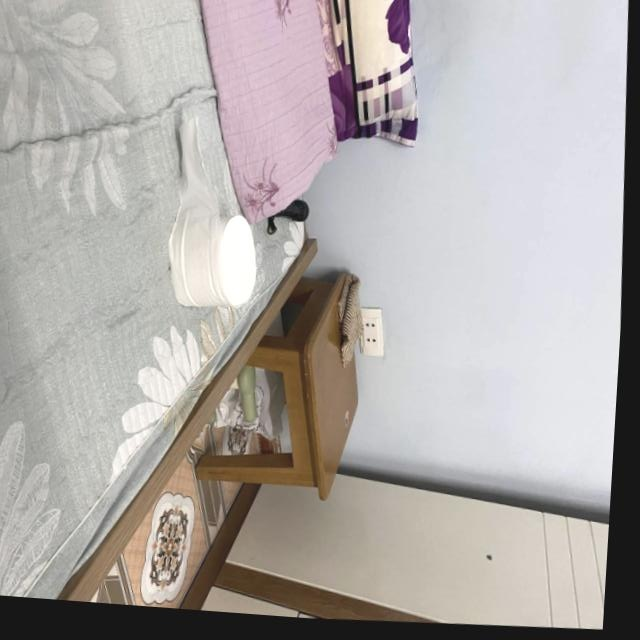outlet: (357, 304, 388, 357)
